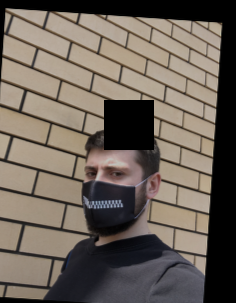with_mask: (80, 157, 138, 236)
